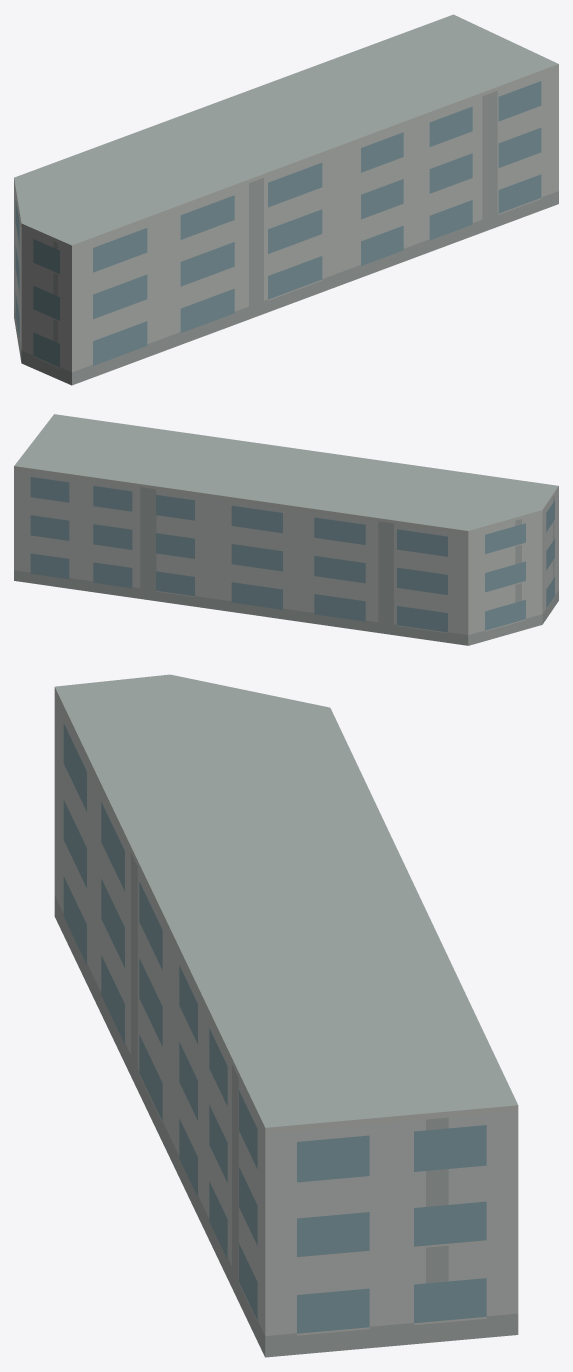
The model's file is survey-upis-32646095.glb.
The picture shows the model from 3 angles, top to bottom: view 1: azimuth 30°, elevation 25°; view 2: azimuth 150°, elevation 25°; view 3: azimuth 270°, elevation 25°; orthographic projection. The views are drawn at different scales.
Visible parts, largest first — view 1: survey-upis-32646095.tmp; view 2: survey-upis-32646095.tmp; view 3: survey-upis-32646095.tmp.
Part boxes in pixels (box(x1,y1,x2,y2)): survey-upis-32646095.tmp: box(14, 14, 558, 385); survey-upis-32646095.tmp: box(14, 414, 558, 645); survey-upis-32646095.tmp: box(54, 674, 518, 1357).
Bounding box in the file's own units: 38.76 × 9.15 × 16.76.
